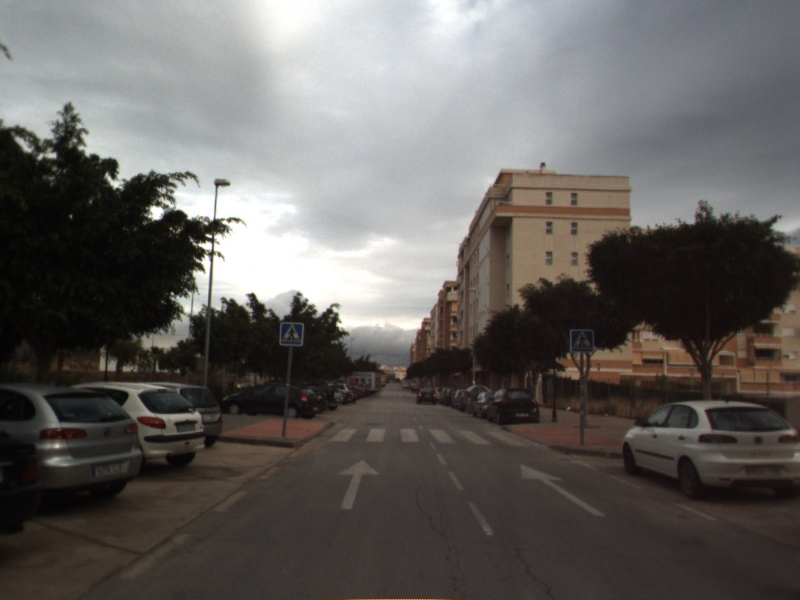STRAIGHT: (519, 463, 609, 519), (335, 458, 382, 511)
